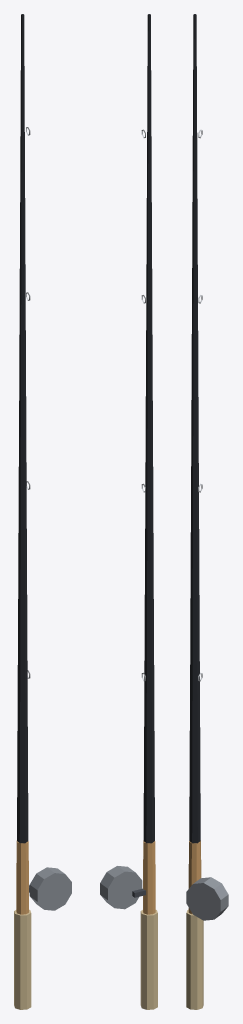
File: SM_Fishing_Rod.glb
The picture shows the model from 3 angles, left to right: view 1: azimuth 30°, elevation 25°; view 2: azimuth 210°, elevation 25°; view 3: azimuth 330°, elevation 25°; orthographic projection.
Visible parts, largest first — view 1: SM_Fishing_Rod; view 2: SM_Fishing_Rod; view 3: SM_Fishing_Rod.
Boxes of the visible parts, x1,y1,x2,y2 form: SM_Fishing_Rod: (14, 14, 71, 1009); SM_Fishing_Rod: (100, 14, 157, 1009); SM_Fishing_Rod: (186, 14, 228, 1009).
Size of the model in its own units: 0.1 by 2.1 by 0.062.
1 material, 1 textured.
